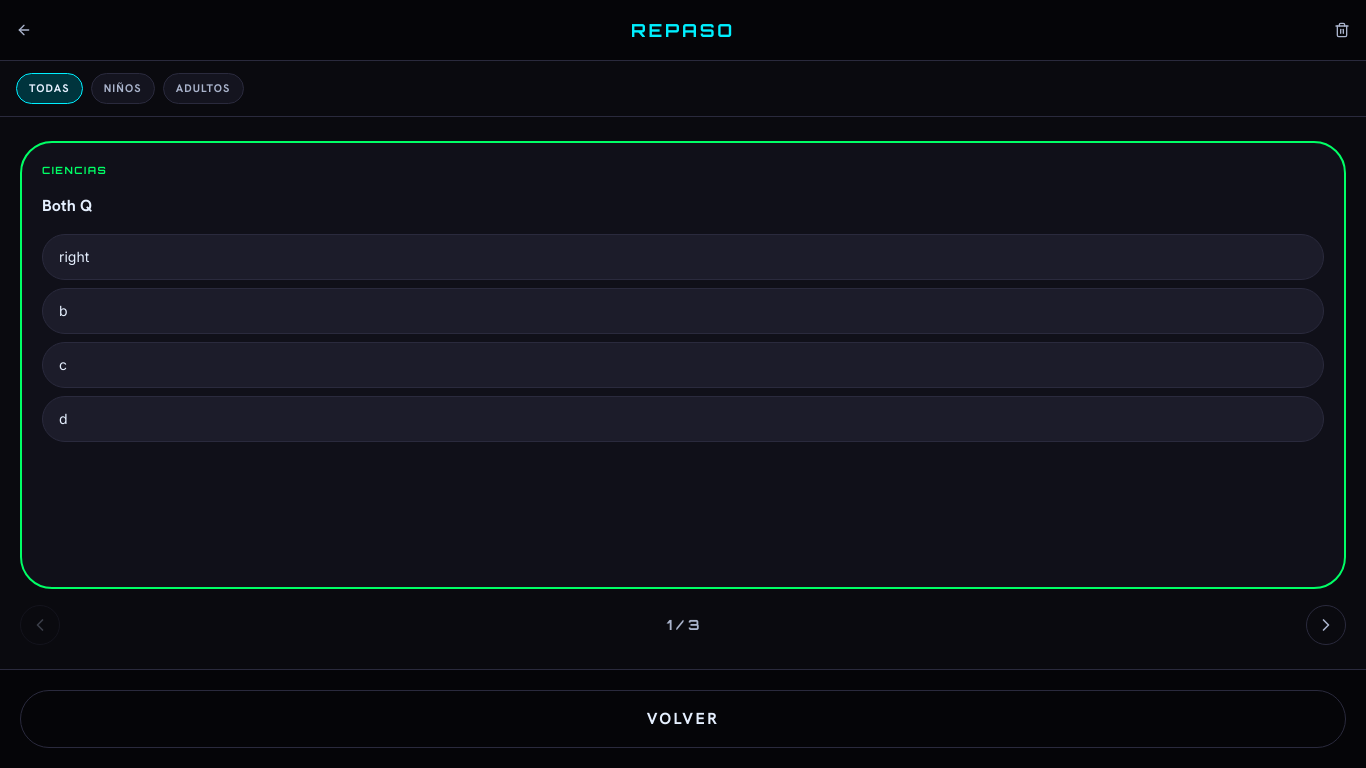
Test case: FlashcardsScreen (Repaso) › filters by player audience (kid = KID+BOTH, adult = ADULT+BOTH)
Expected: the text with test id "card-counter" reads "1 / 3", [666,615,699,635]
Click the button with test id "rfilter-KID": (123, 88) [91,73,155,104]
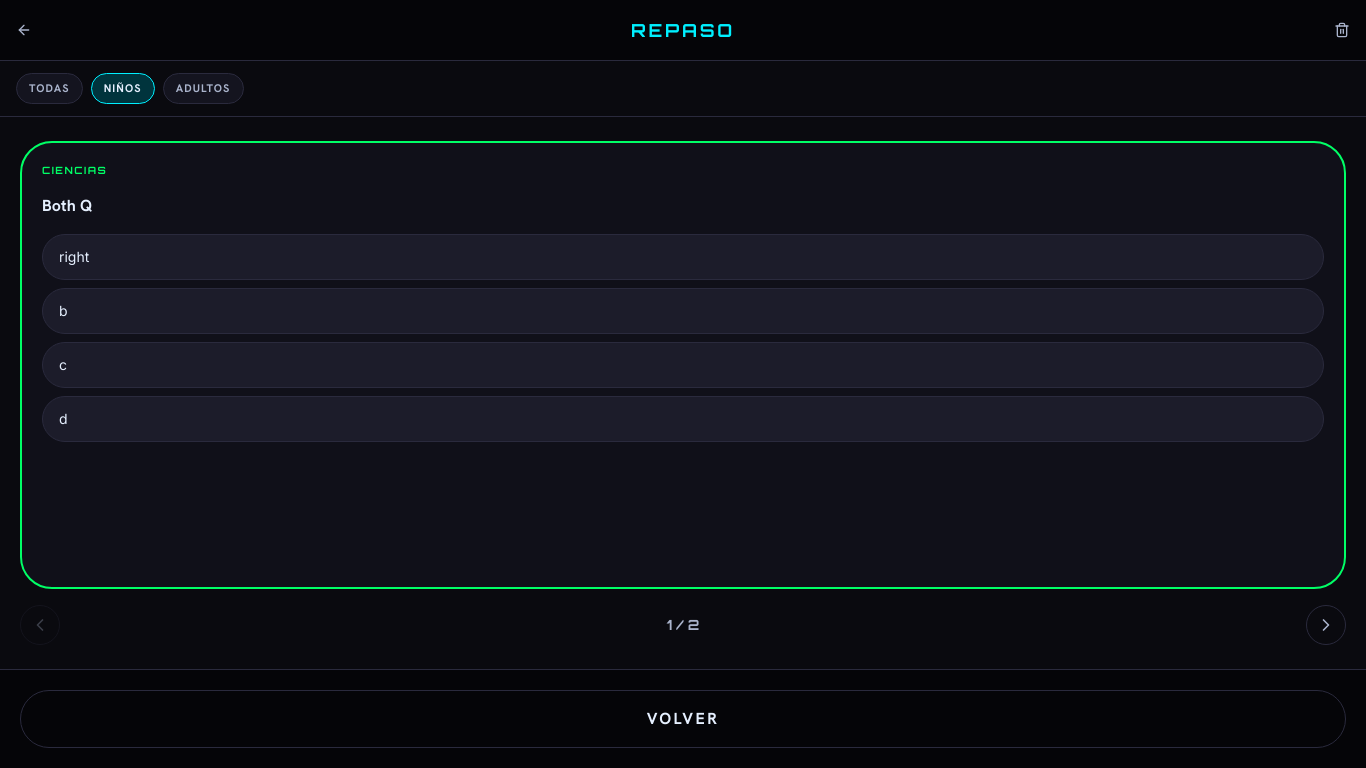
Expected: the text with test id "card-counter" reads "1 / 2", [666,615,700,635]
Click the button with test id "rfilter-ADULT": (203, 88) [163,73,244,104]
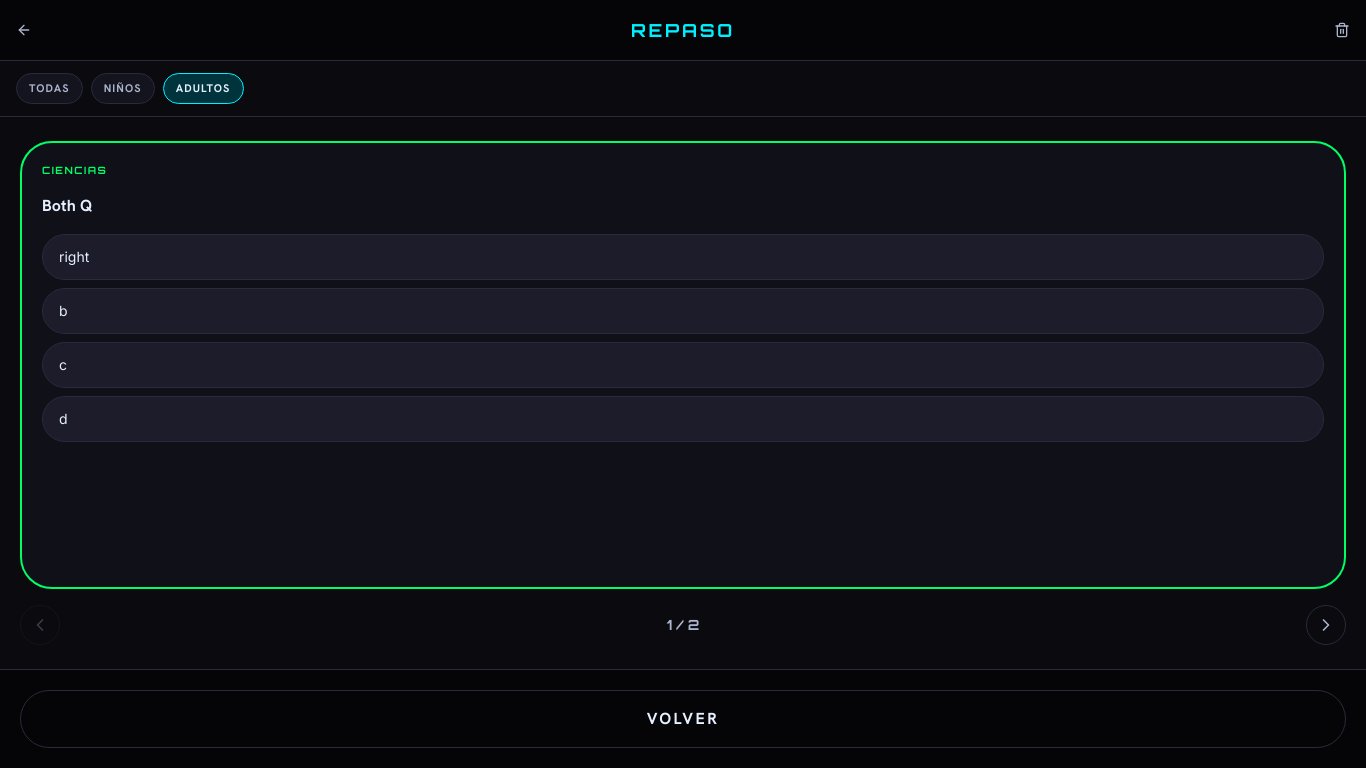
Expected: the text with test id "card-counter" reads "1 / 2", [666,615,700,635]
Click the button with test id "rfilter-ALL": (49, 88) [16,73,83,104]
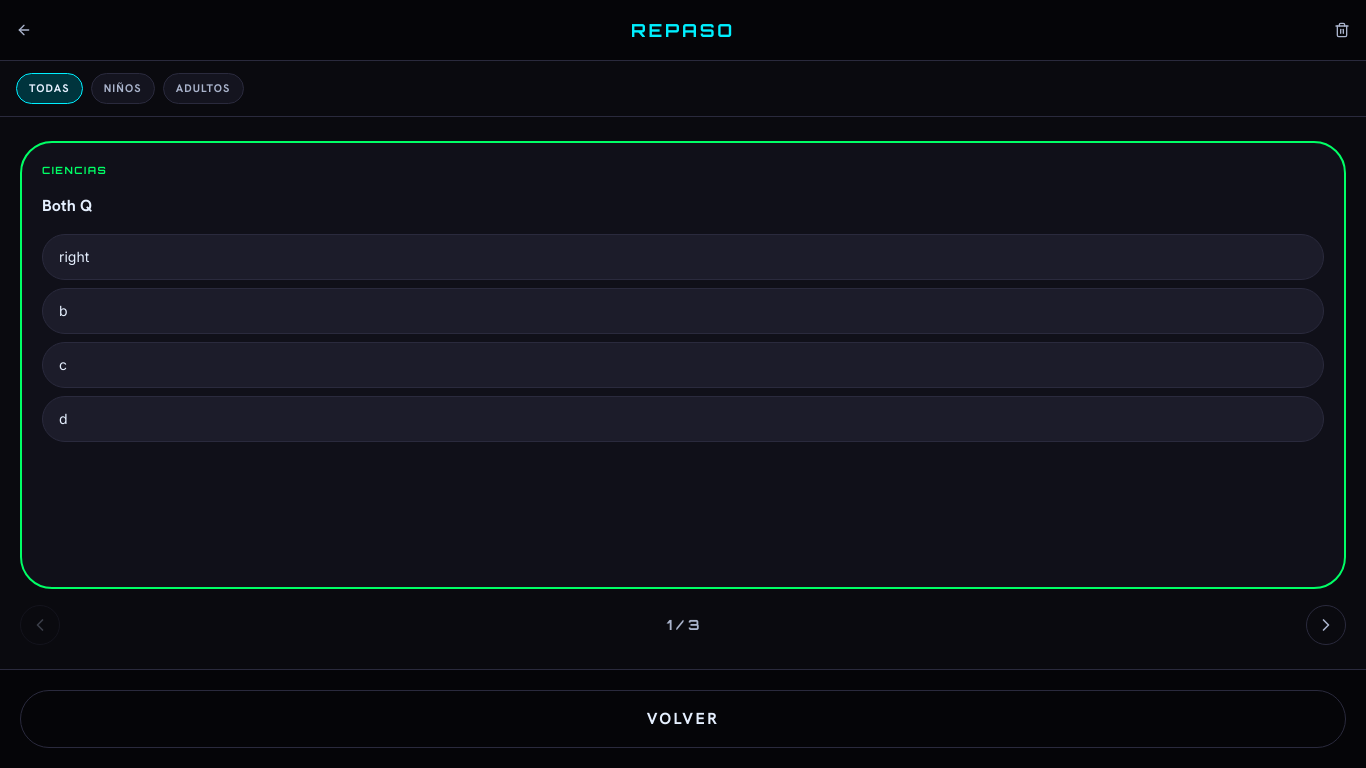
Expected: the text with test id "card-counter" reads "1 / 3", [666,615,699,635]
